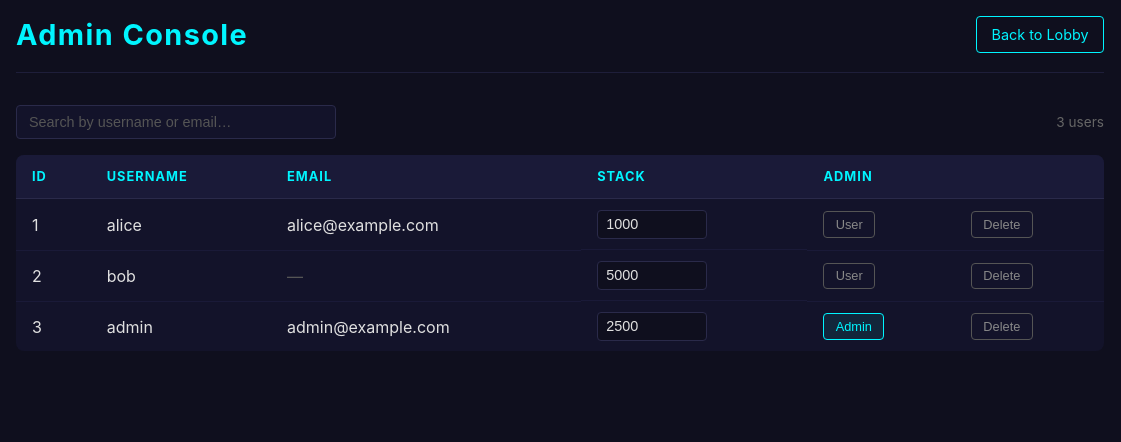
Test case: AdminPage — admin toggle › shows error message on demote 400 (cannot demote self)
The width and height of the screenshot is (1121, 442).
Click the button "Admin" at (854, 327), box [824,313,884,340]
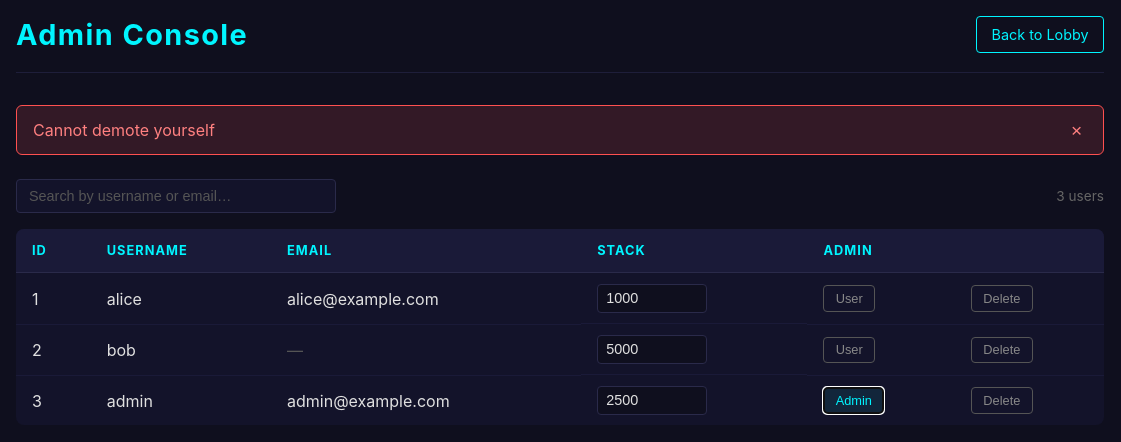
expect the text "Cannot demote yourself" is shown: met, box [33,120,215,140]
